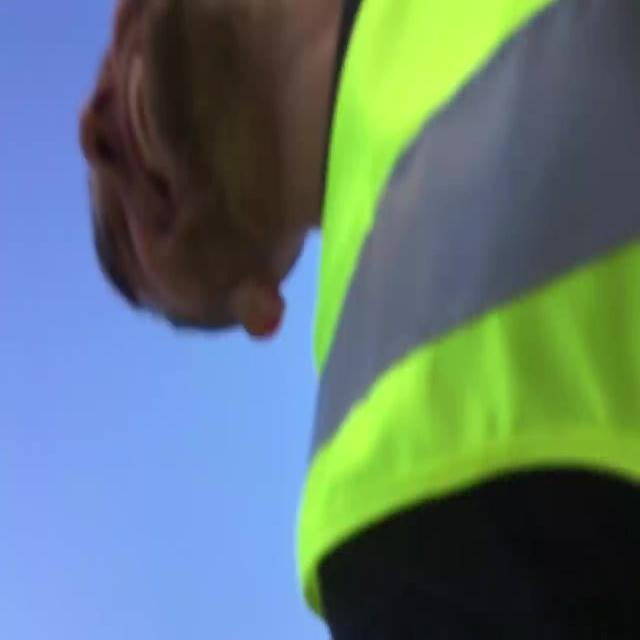vest: (294, 1, 640, 640)
